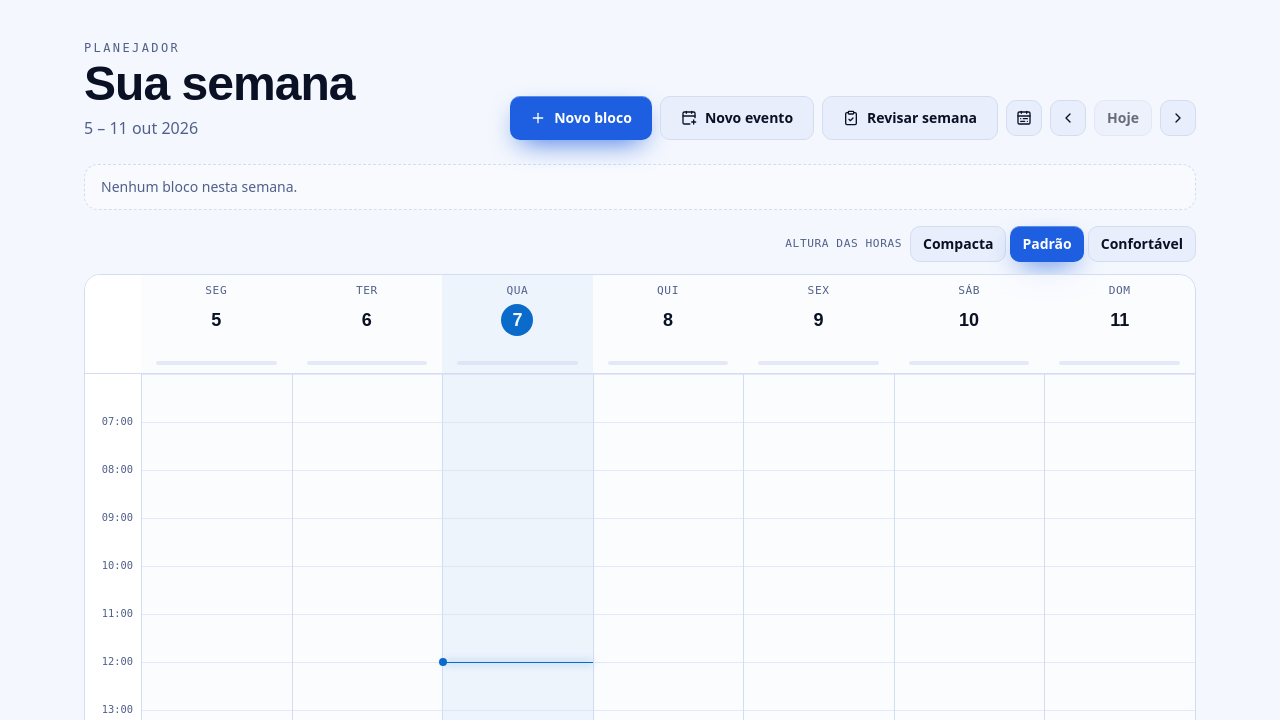
Test: WeekPage › oferece "Revisar semana" na semana atual e nas passadas, e não nas futuras
The width and height of the screenshot is (1280, 720).
Note: semana passada: leva à revisão daquela semana
Click the button named "Semana anterior" at [1068, 118], box [1050, 100, 1086, 136]
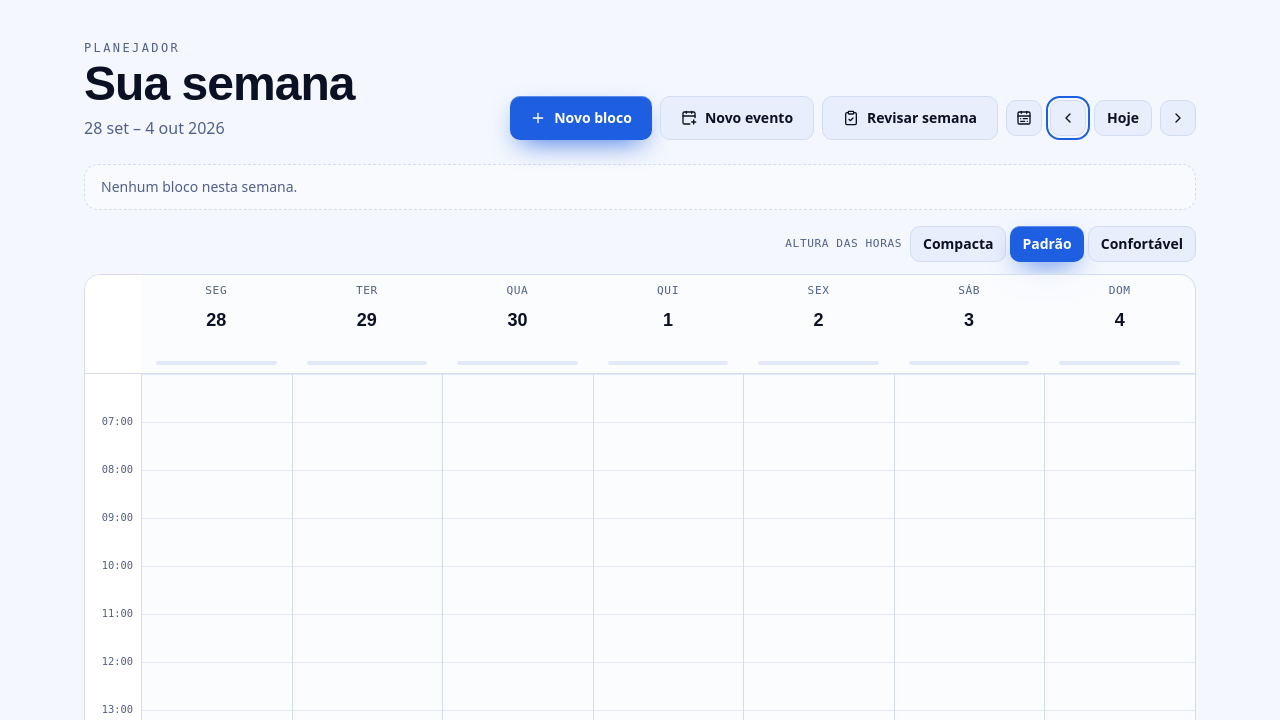
Now the text "28 set – 4 out 2026" is shown, box [84, 117, 225, 139]
Note: semana futura: não há o que revisar
Click the button named "Próxima semana" at [1178, 118], box [1160, 100, 1196, 136]
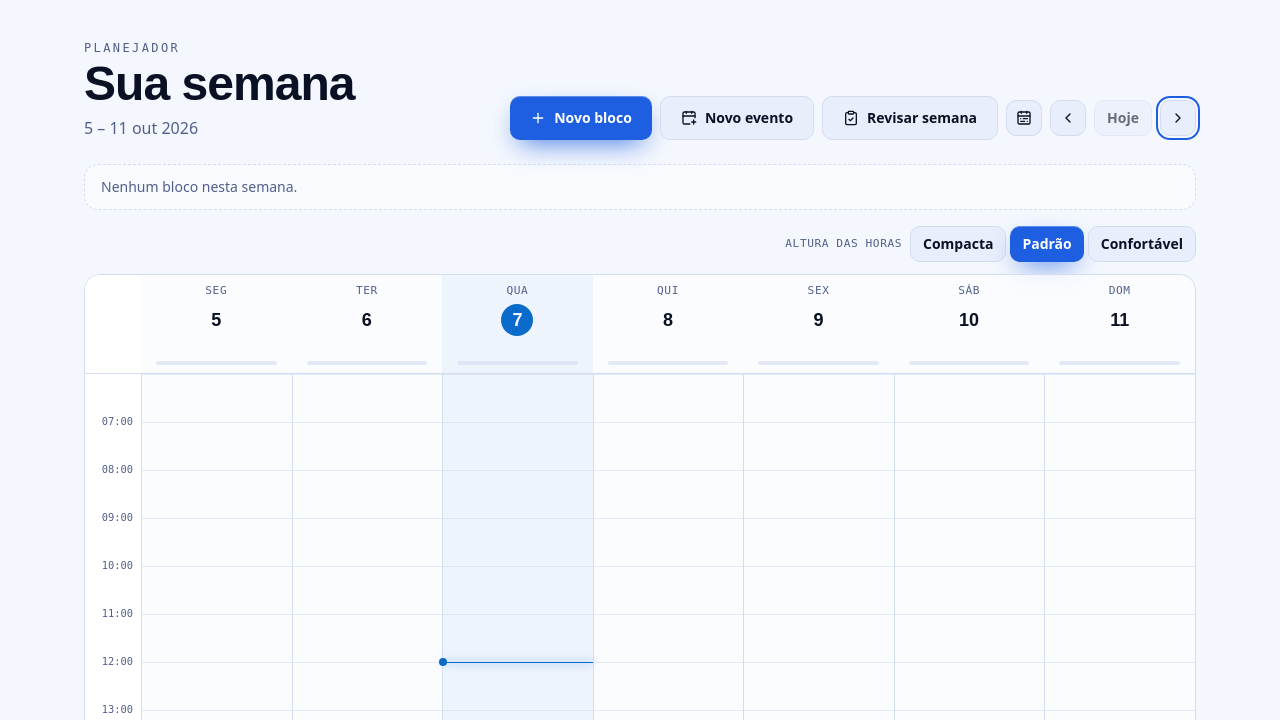
Click the button named "Próxima semana" at [1178, 118], box [1160, 100, 1196, 136]
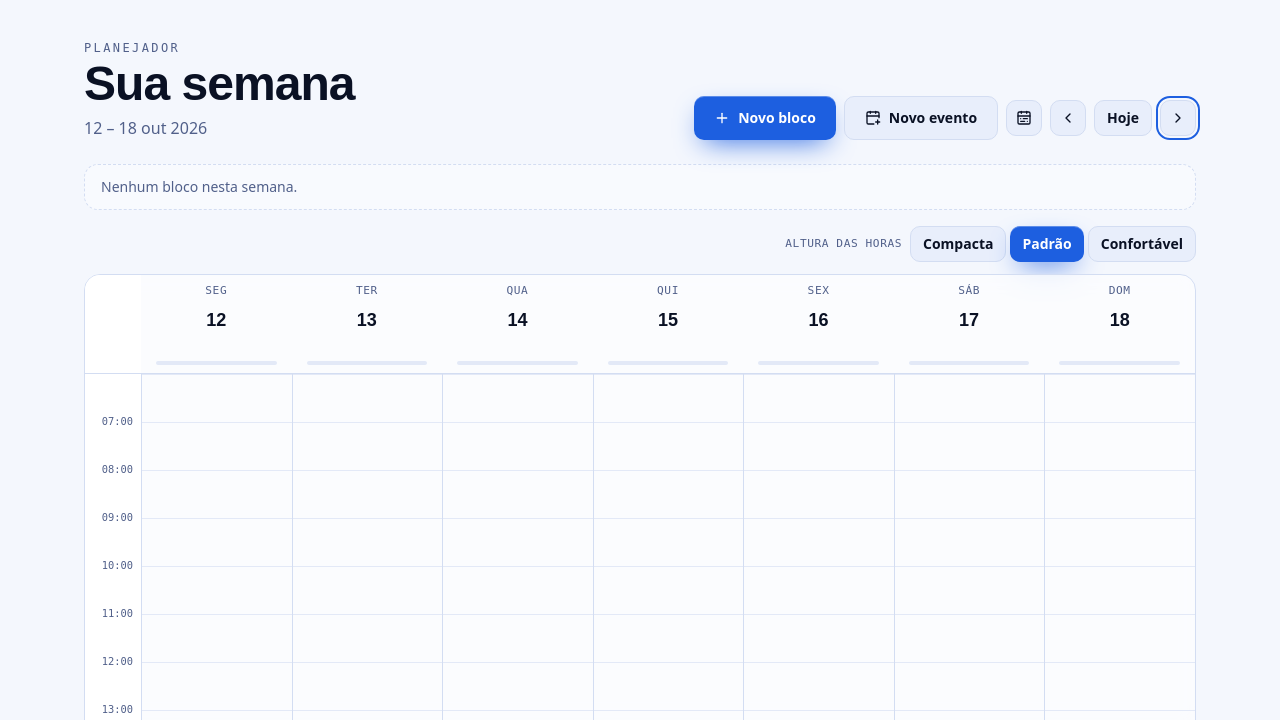
Now the text "12 – 18 out 2026" is shown, box [84, 117, 207, 139]
Now the link "Revisar semana" is gone
